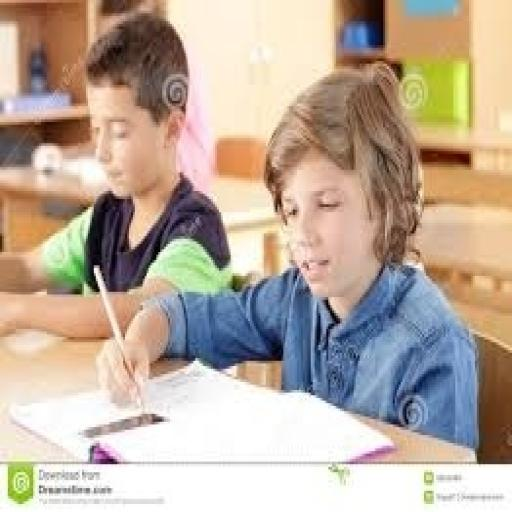sitting: (94, 58, 481, 451), (0, 8, 235, 342)
